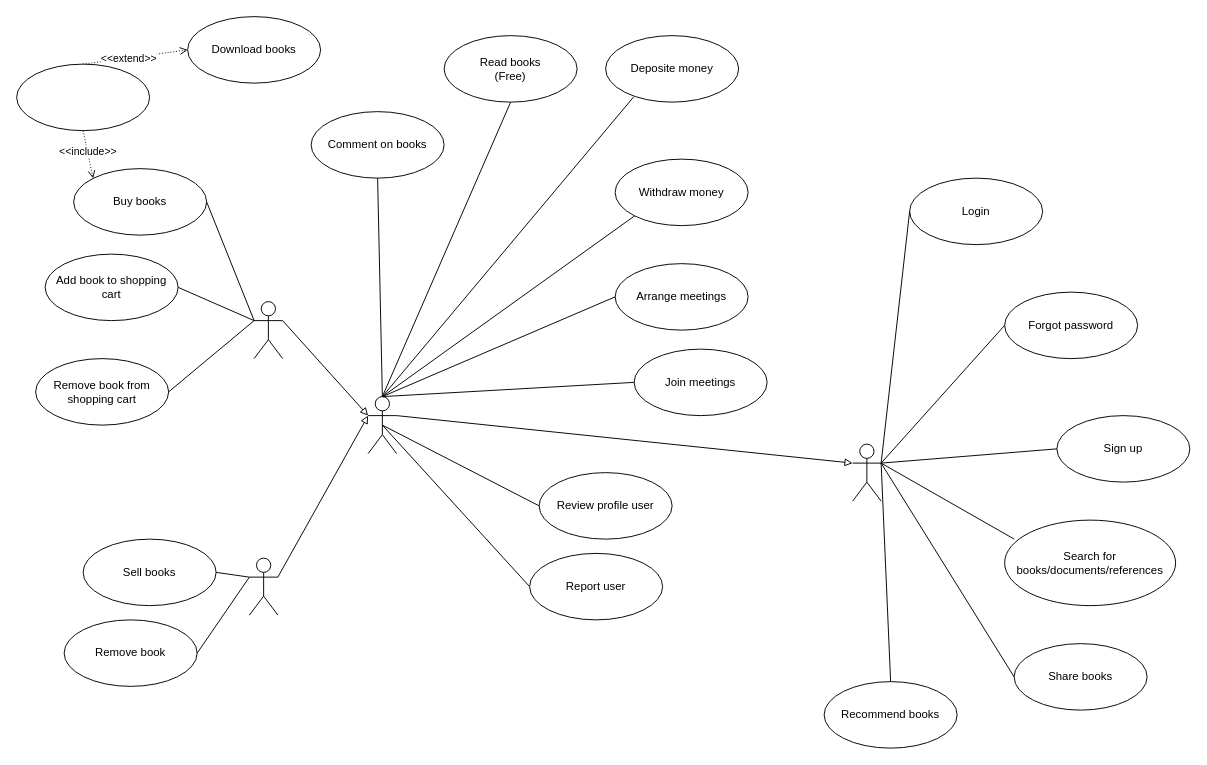
Some shapes in this 1207 by 765 pixel diagram are drawn without their labels. The box of each missing label's shape, as (x1, y1, x2, y2) in pixels:
Buyer: (253, 301, 283, 359)
Read books (Not free): (16, 63, 150, 131)
Registered user: (367, 396, 397, 454)
Seller: (248, 557, 278, 615)
User: (852, 443, 881, 501)
